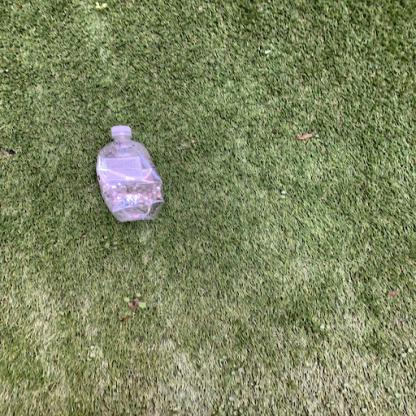trash: (91, 126, 170, 226)
